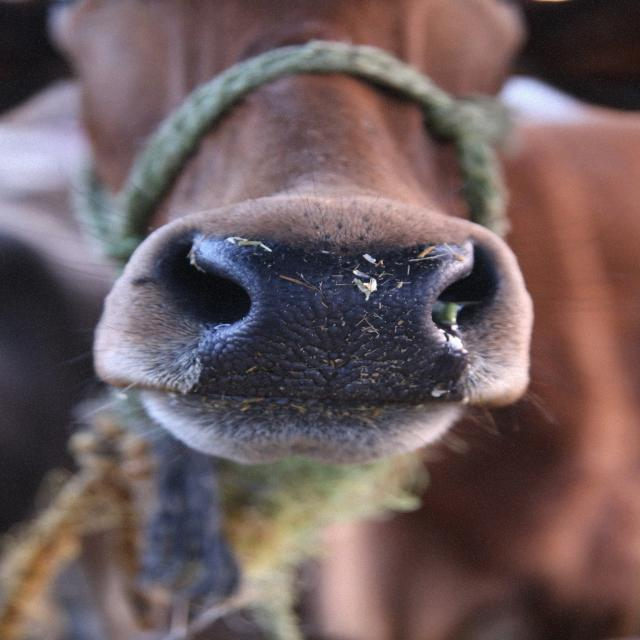muzzles: (158, 220, 496, 416)
